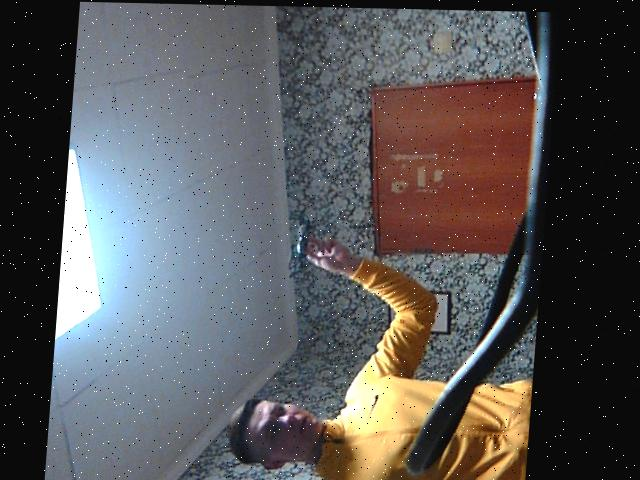drone: (270, 200, 324, 287)
